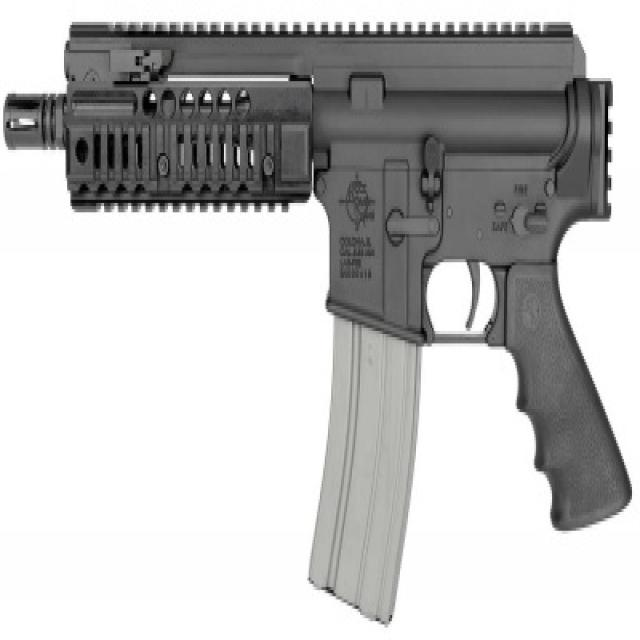rifle: (1, 1, 640, 619)
